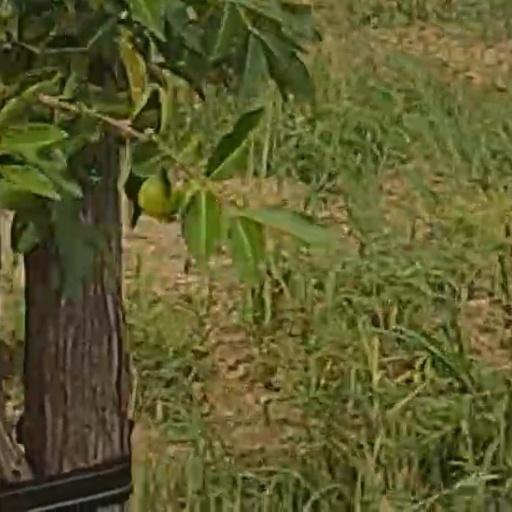acerola_verde: (139, 178, 179, 217)
